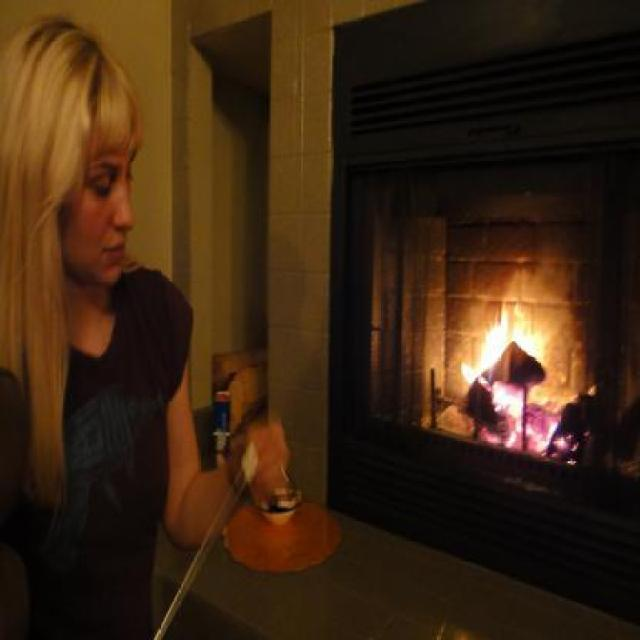Fire: (464, 306, 549, 378), (493, 376, 532, 446), (552, 436, 570, 450)
